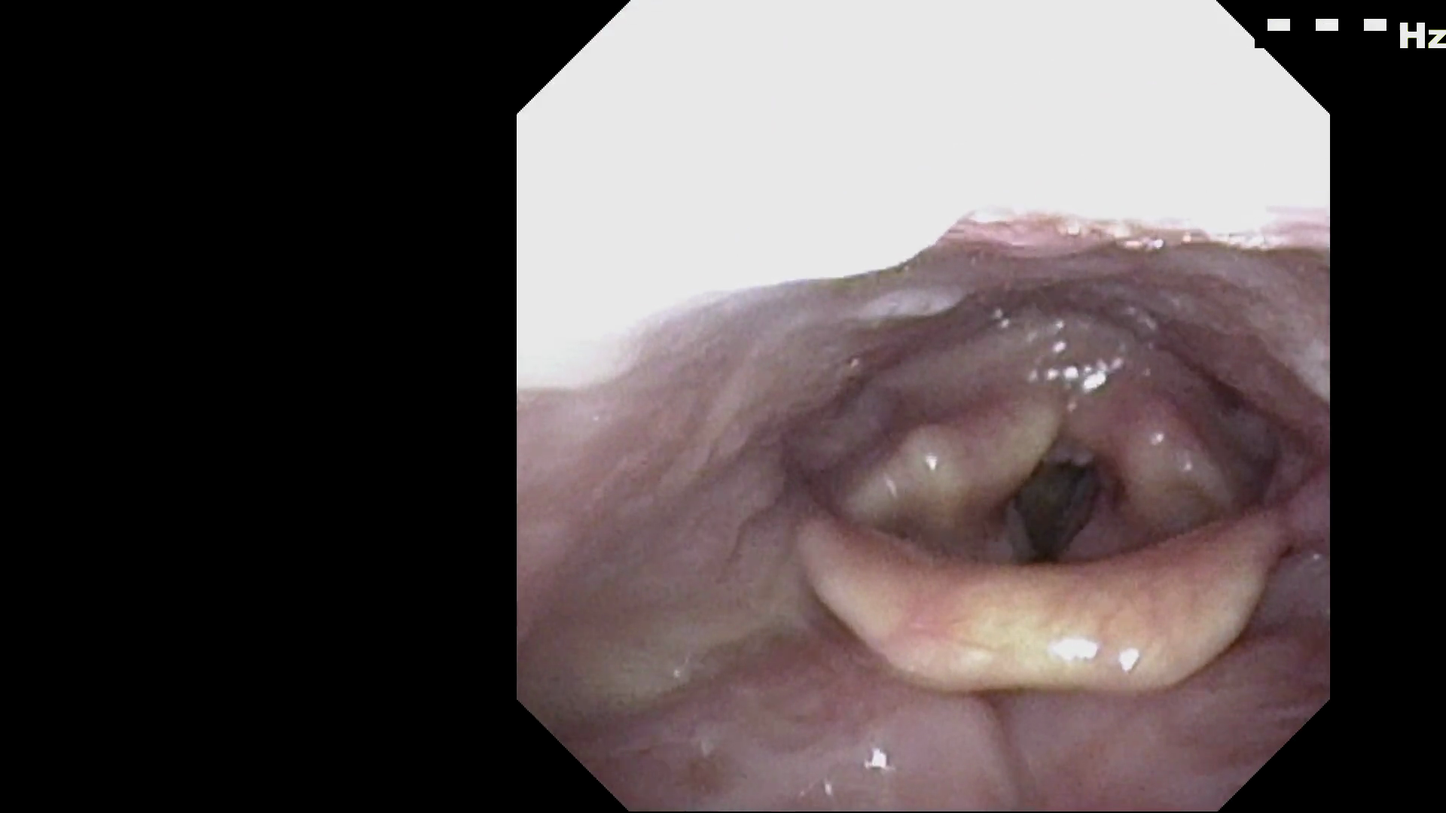epiglottis: (779, 470, 1304, 709)
trachea: (978, 409, 1124, 564)
